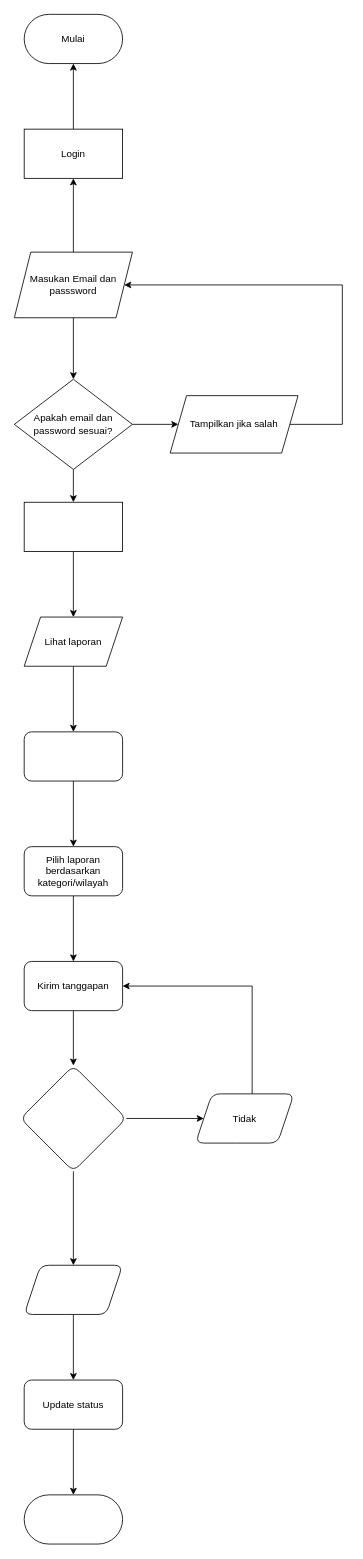
Image size: 363x1559. Some labels were removed from this diagram. The centre of each missing label's shape, as x and y in pixels:
Ke halaman petugas: the point at 73,526
Lihat daftar laporan masuk: the point at 73,756
Selesai: the point at 73,1519
Ubah status: the point at 73,1118
YA: the point at 73,1289
